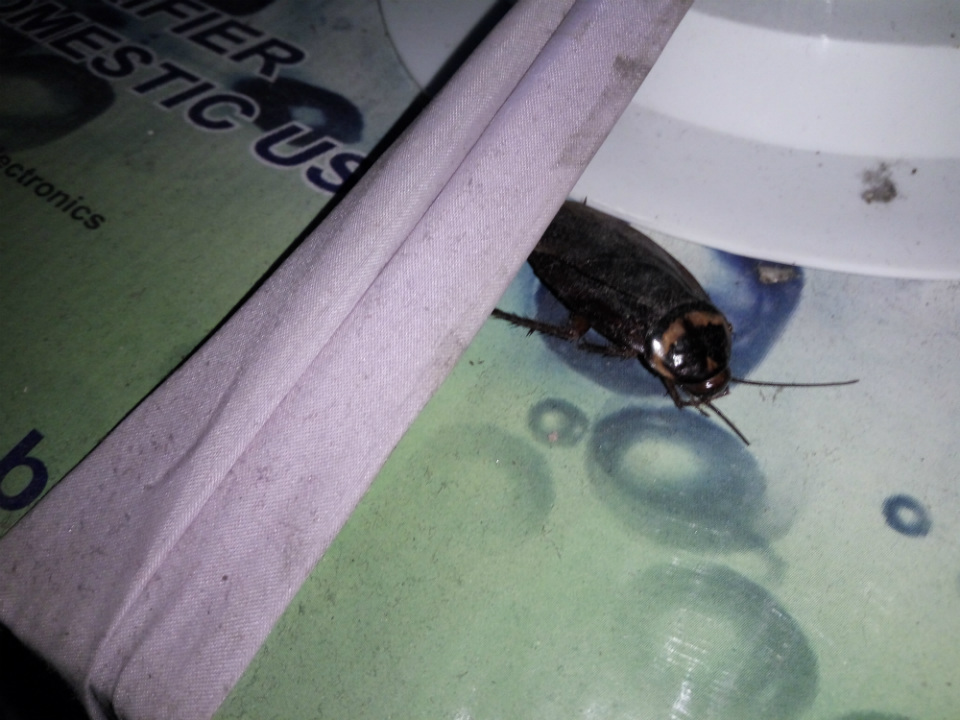cockroach: (491, 154, 880, 472)
